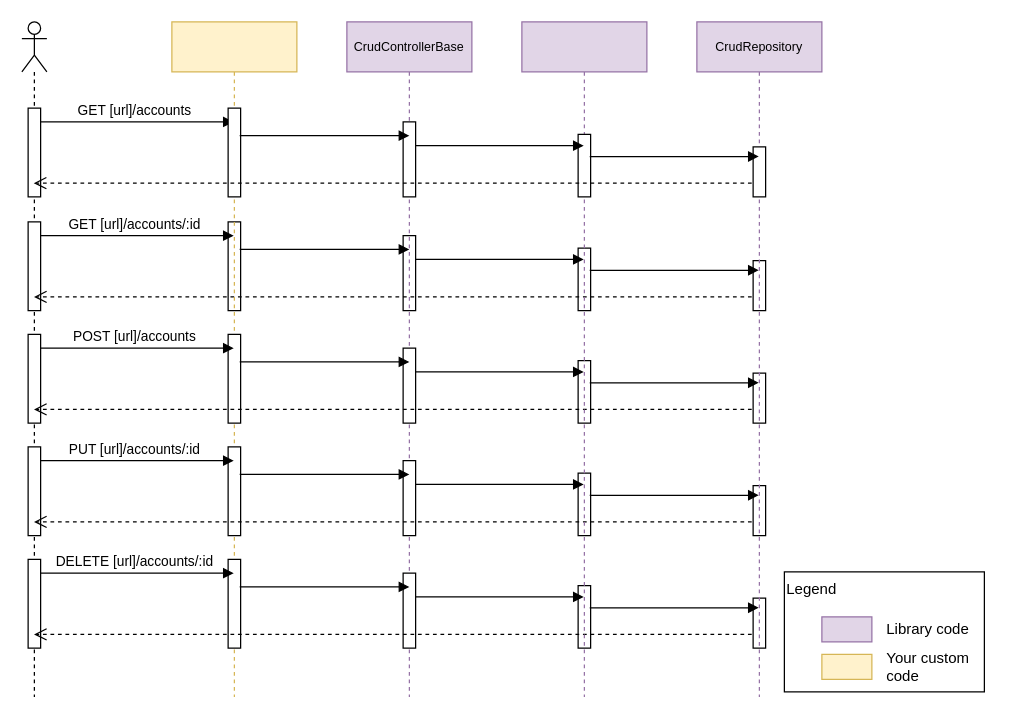
Some shapes in this 1031 by 719 pixel diagram are drawn without their labels. Each missing label, with the centre of its shape:
"AccountsController" belongs at (x=234, y=359).
"CrudServiceBase" belongs at (x=584, y=359).
